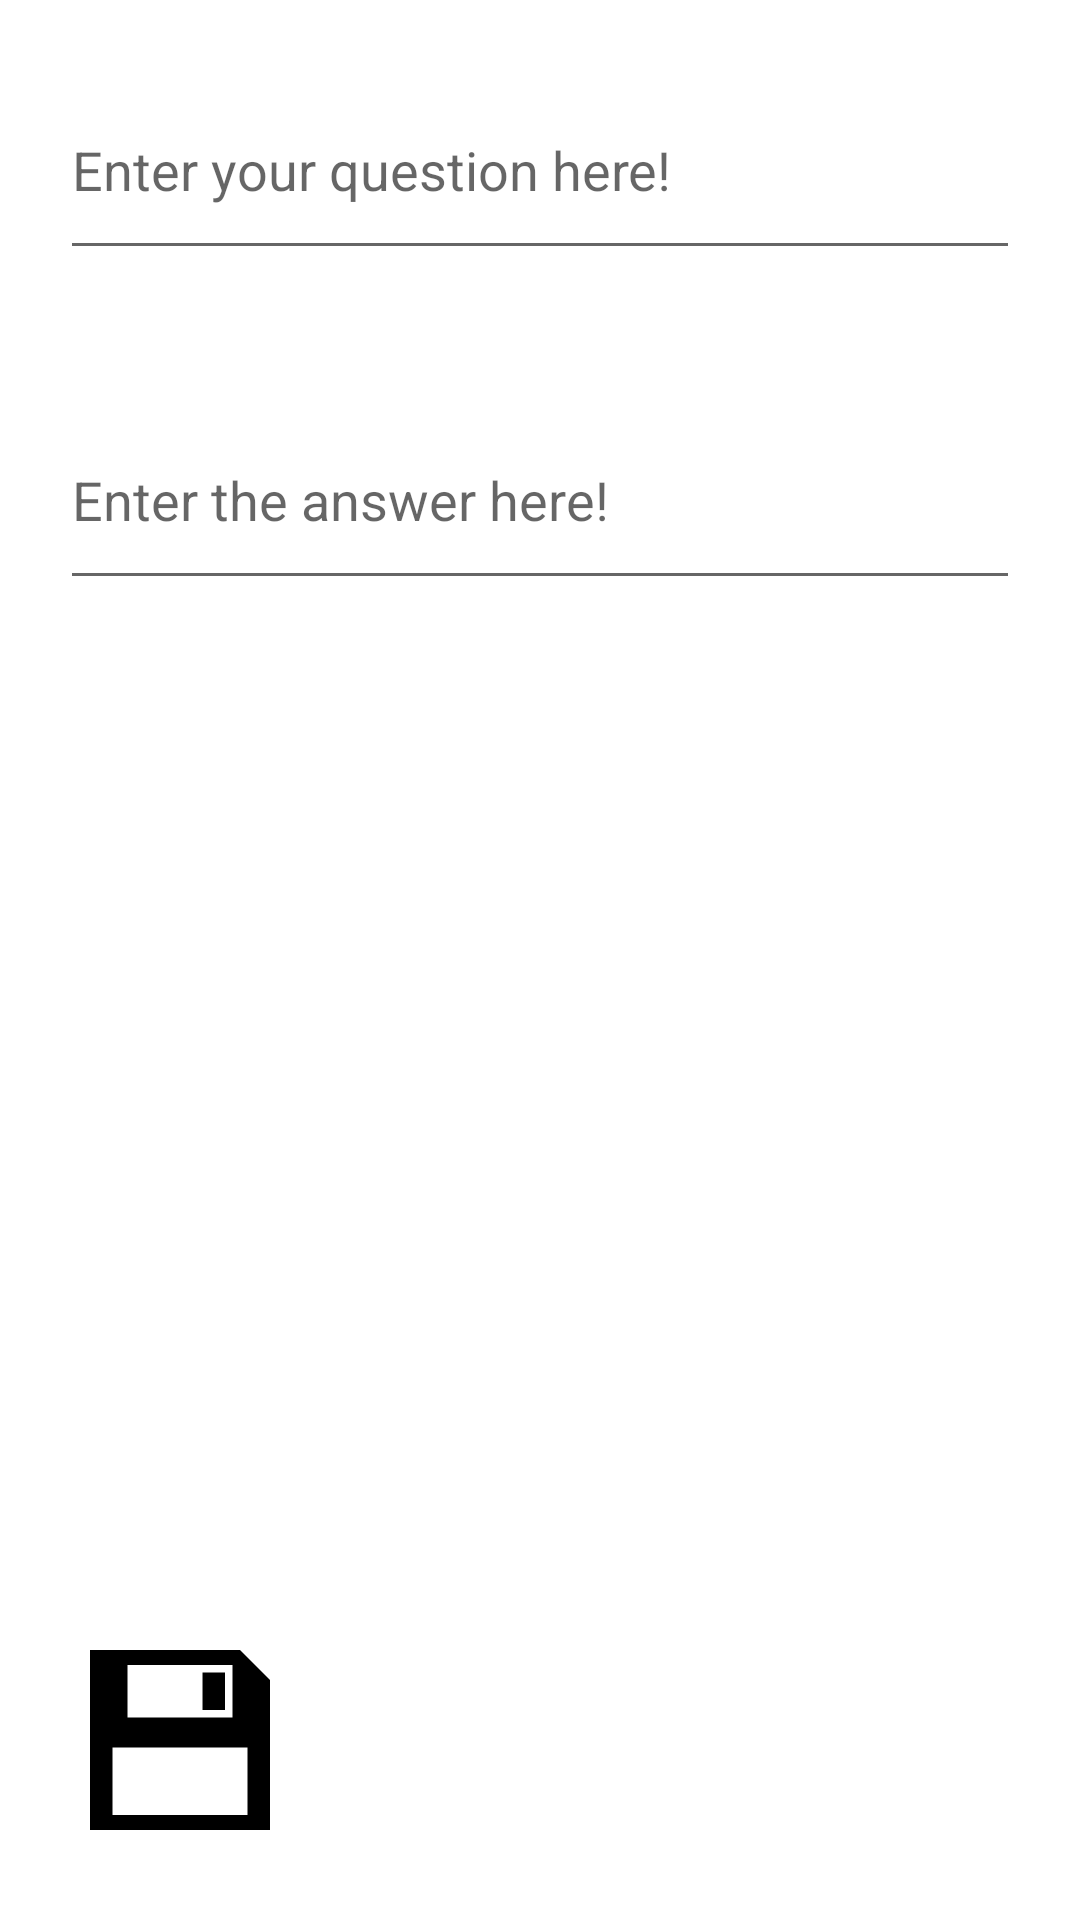

Screen size 1080 × 1920. Icon name, then its box in pixels as (x1, y1, x2, y2):
save: (90, 1650, 270, 1830)
